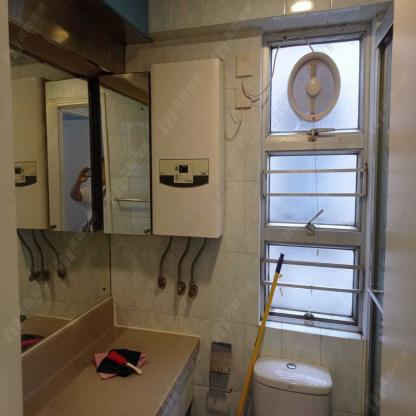Exhaust Fan: (284, 47, 343, 128)
Toilet: (252, 356, 334, 414)
Water Heater: (151, 59, 225, 237)
